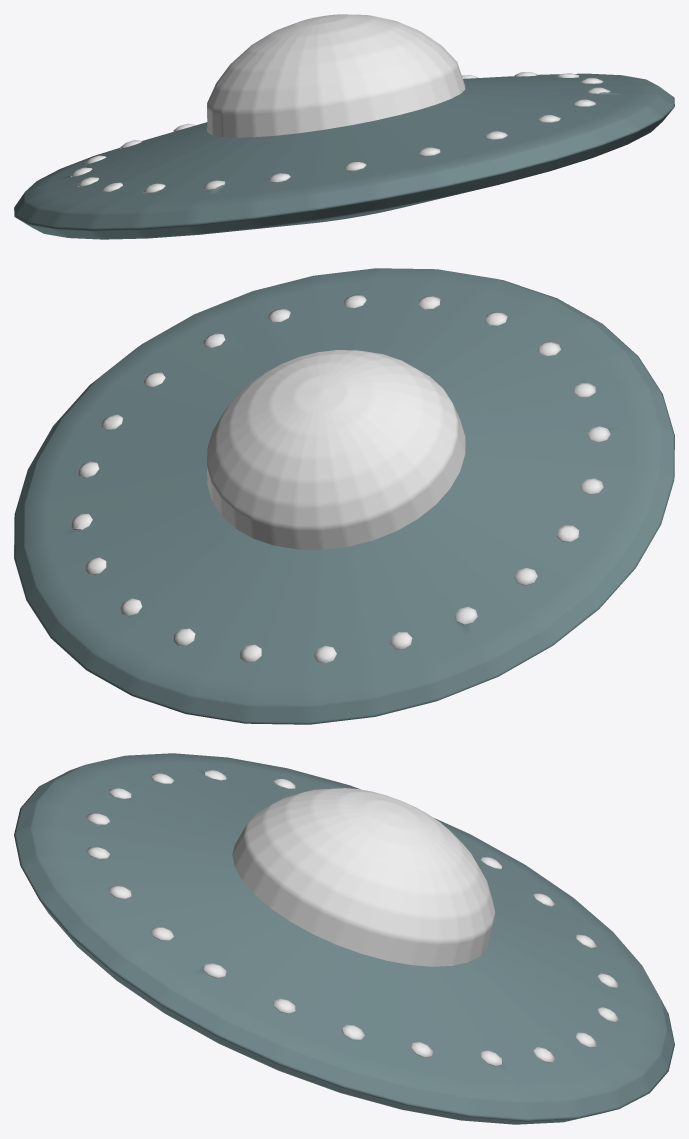
File: ufo.fbx
3 renders of one model, top to bottom at view 1: azimuth 30°, elevation 25°; view 2: azimuth 150°, elevation 25°; view 3: azimuth 270°, elevation 25°, orthographic. The views are drawn at different scales.
Parts seen in each view (by area): view 1: Sphere.001; view 2: Sphere.001; view 3: Sphere.001.
Boxes of the visible parts, x1,y1,x2,y2 form: Sphere.001: (14, 14, 674, 239); Sphere.001: (14, 268, 674, 724); Sphere.001: (14, 753, 674, 1124).
Size of the model in its own units: 488 by 190 by 460.
